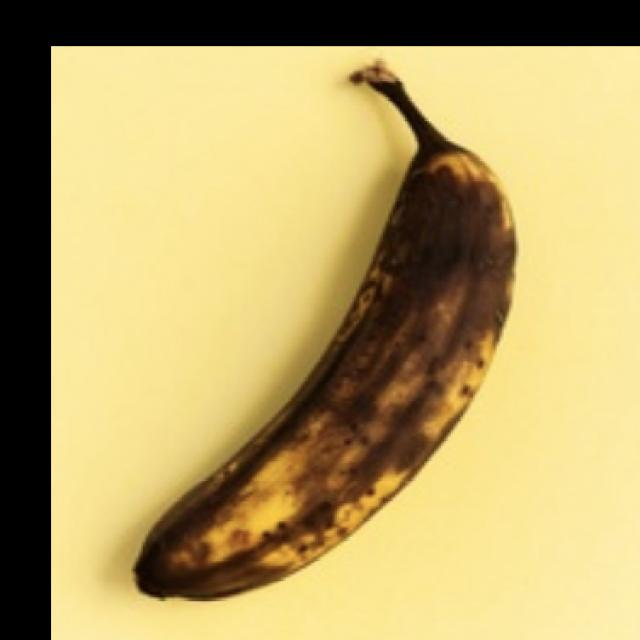Rotten: (113, 52, 533, 608)
